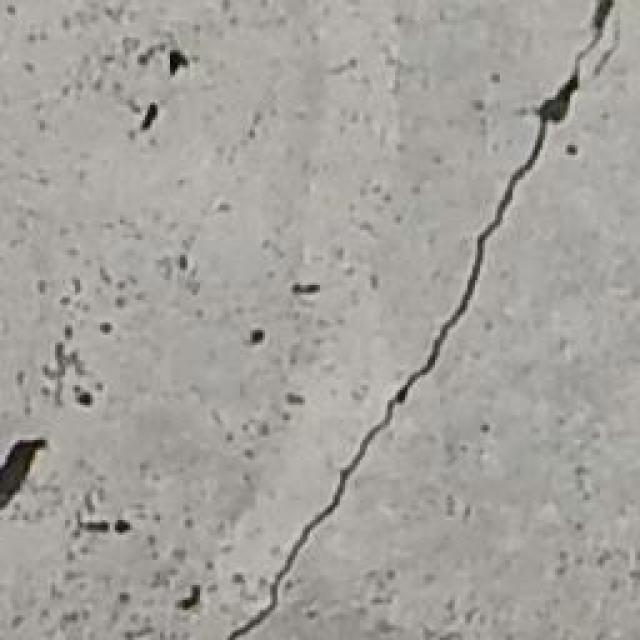concrete-crack: (225, 0, 615, 640)
